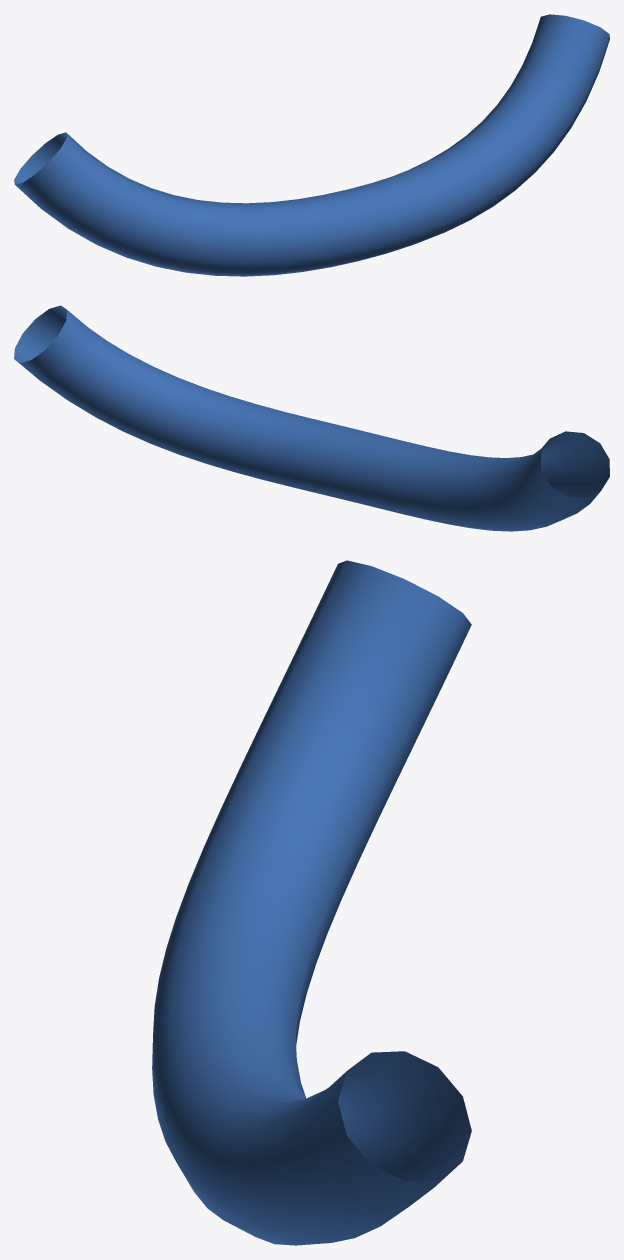
The picture shows the model from 3 angles, top to bottom: view 1: azimuth 30°, elevation 25°; view 2: azimuth 150°, elevation 25°; view 3: azimuth 270°, elevation 25°; orthographic projection. The views are drawn at different scales.
Parts seen in each view (by area): view 1: 前海绵间窦; view 2: 前海绵间窦; view 3: 前海绵间窦.
Boxes of the visible parts, x1,y1,x2,y2 form: 前海绵间窦: [14, 14, 609, 276]; 前海绵间窦: [14, 305, 609, 531]; 前海绵间窦: [152, 560, 471, 1245].
Size of the model in its own units: 0.0135 by 0.0034 by 0.00319.
